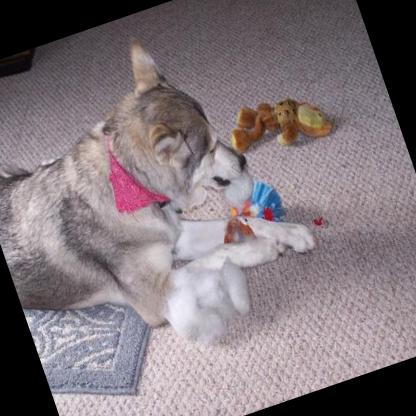malamute: (0, 0, 334, 392)
